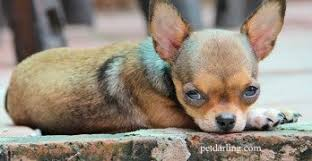chihuahua: (4, 1, 300, 133)
